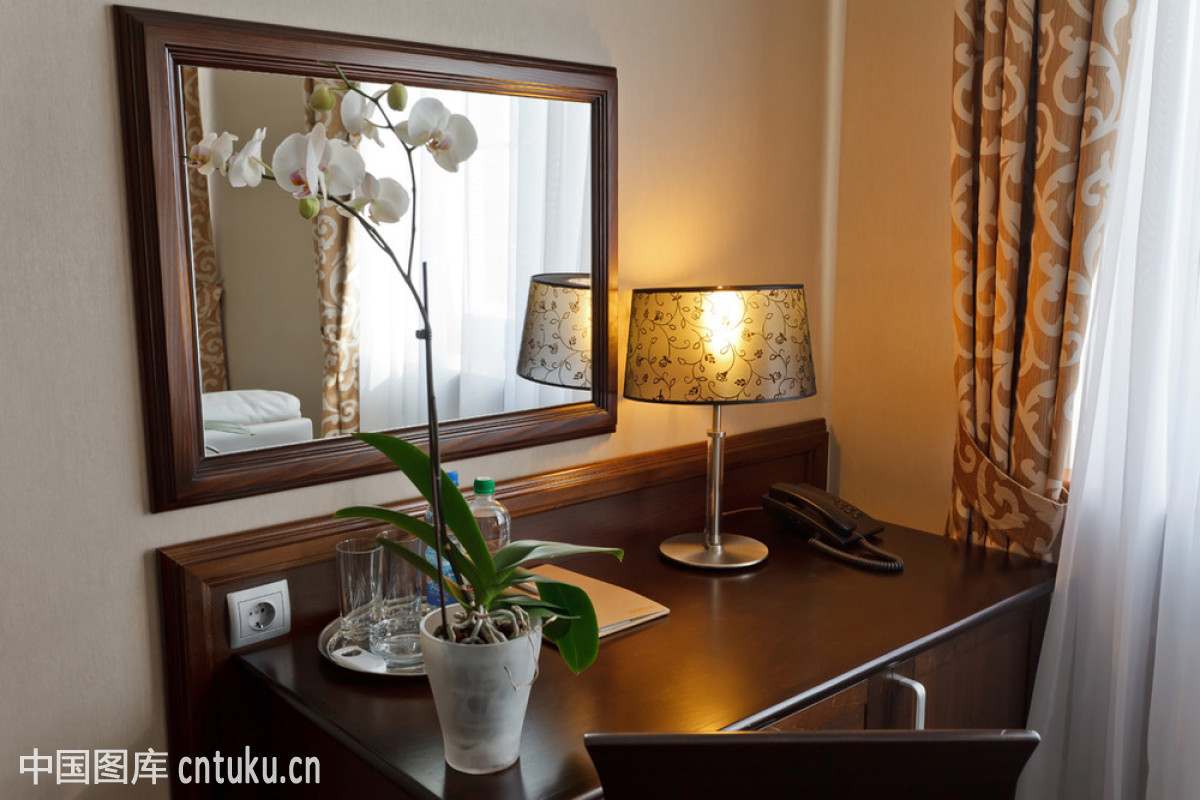flexible: (936, 4, 1193, 800)
